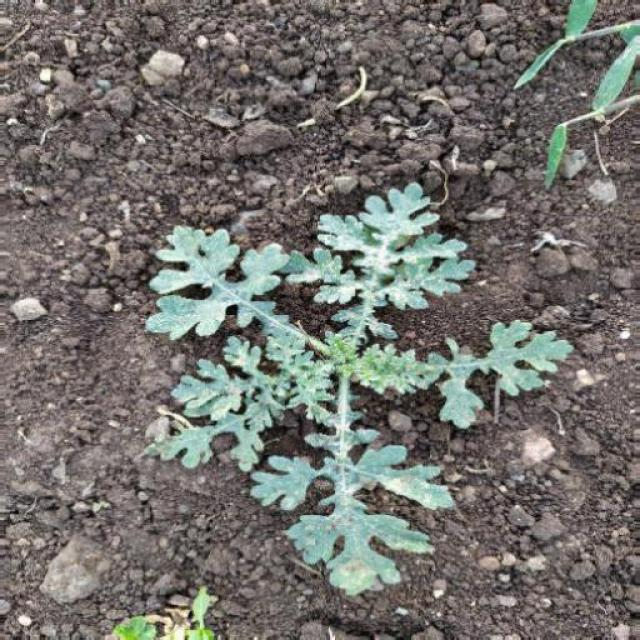weed: (125, 178, 574, 588)
